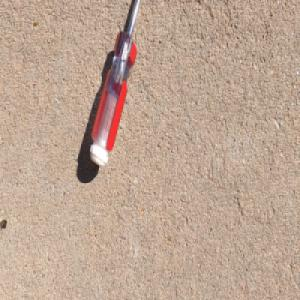Screwdriver: (88, 0, 143, 169)
